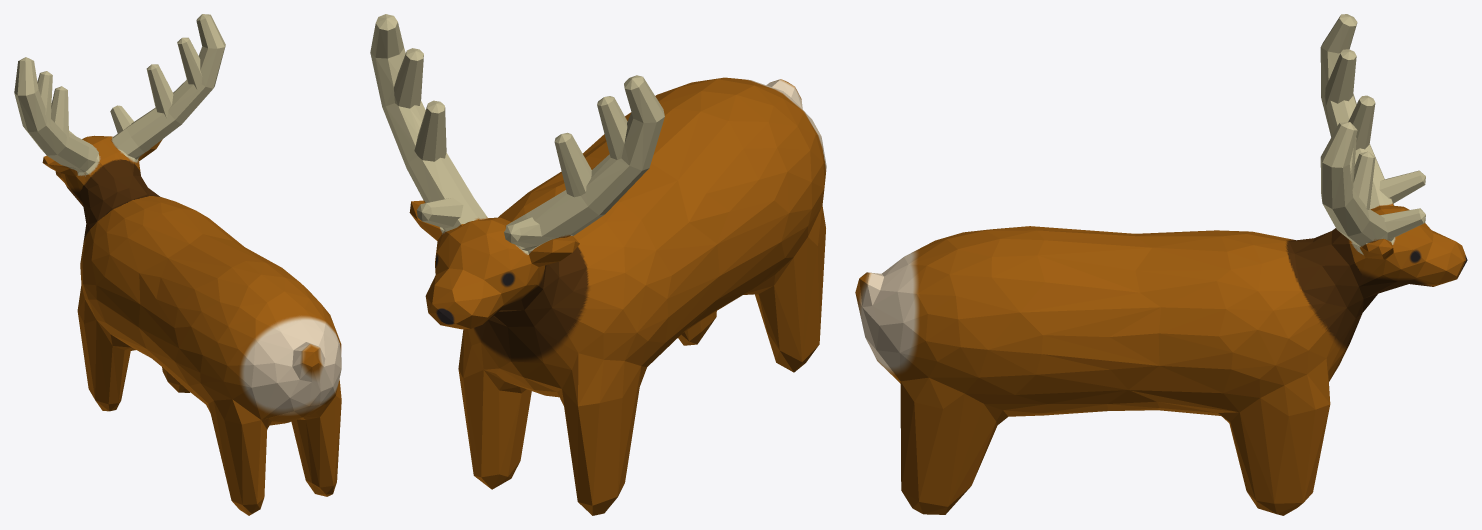
The model's file is animal_elk_male_blob.obj.
3 views of the same model, side by side, from view 1: azimuth 30°, elevation 25°; view 2: azimuth 150°, elevation 25°; view 3: azimuth 270°, elevation 25° (orthographic). The views are drawn at different scales.
Visible parts, largest first — view 1: animal_elk_male_blob; view 2: animal_elk_male_blob; view 3: animal_elk_male_blob.
Part boxes in pixels (<box>): animal_elk_male_blob: <box>14,14,341,515</box>; animal_elk_male_blob: <box>370,14,826,515</box>; animal_elk_male_blob: <box>855,14,1467,515</box>.
Bounding box in the file's own units: 0.7806 × 1.24 × 1.62.
